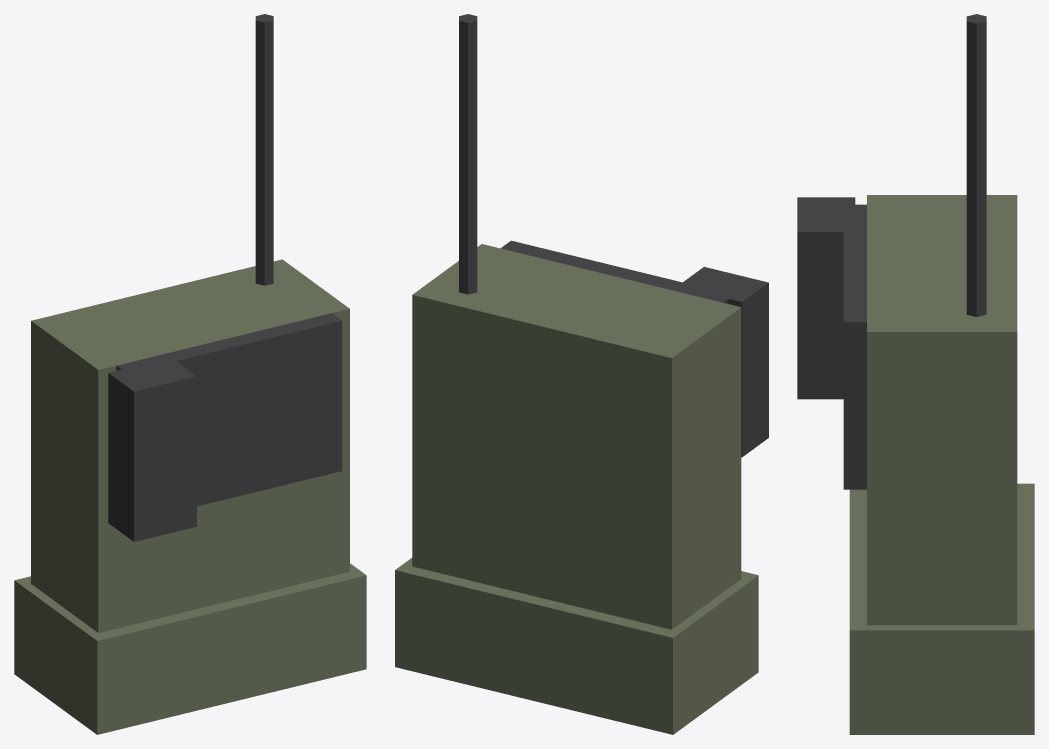
Rendered from fb_radio_prc25.glb.
The picture shows the model from 3 angles, left to right: view 1: azimuth 30°, elevation 25°; view 2: azimuth 150°, elevation 25°; view 3: azimuth 270°, elevation 25°; orthographic projection. The views are drawn at different scales.
Visible parts, largest first — view 1: fb_radio_prc25; view 2: fb_radio_prc25; view 3: fb_radio_prc25.
Boxes of the visible parts, x1,y1,x2,y2 form: fb_radio_prc25: (14, 14, 366, 734); fb_radio_prc25: (395, 14, 768, 734); fb_radio_prc25: (797, 14, 1034, 734).
Size of what is drawn, in the model's own units: 0.3 by 0.66 by 0.205.
